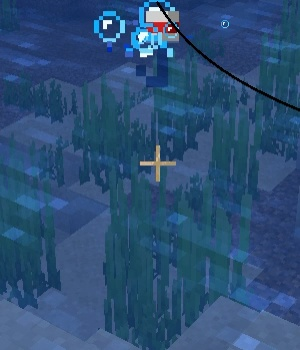up: (128, 3, 180, 87)
